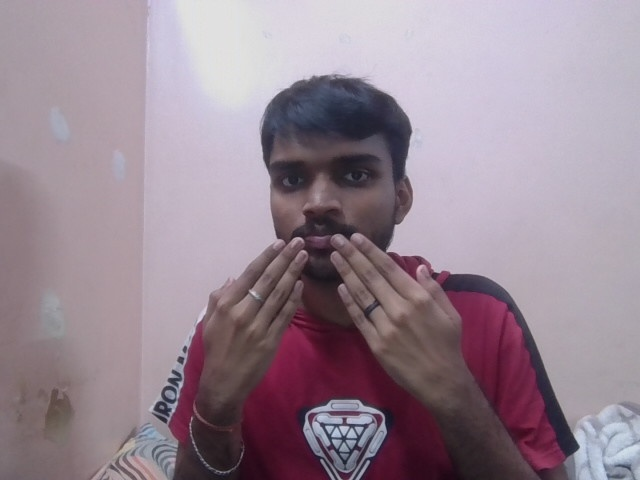Thank You: (201, 232, 473, 398)
